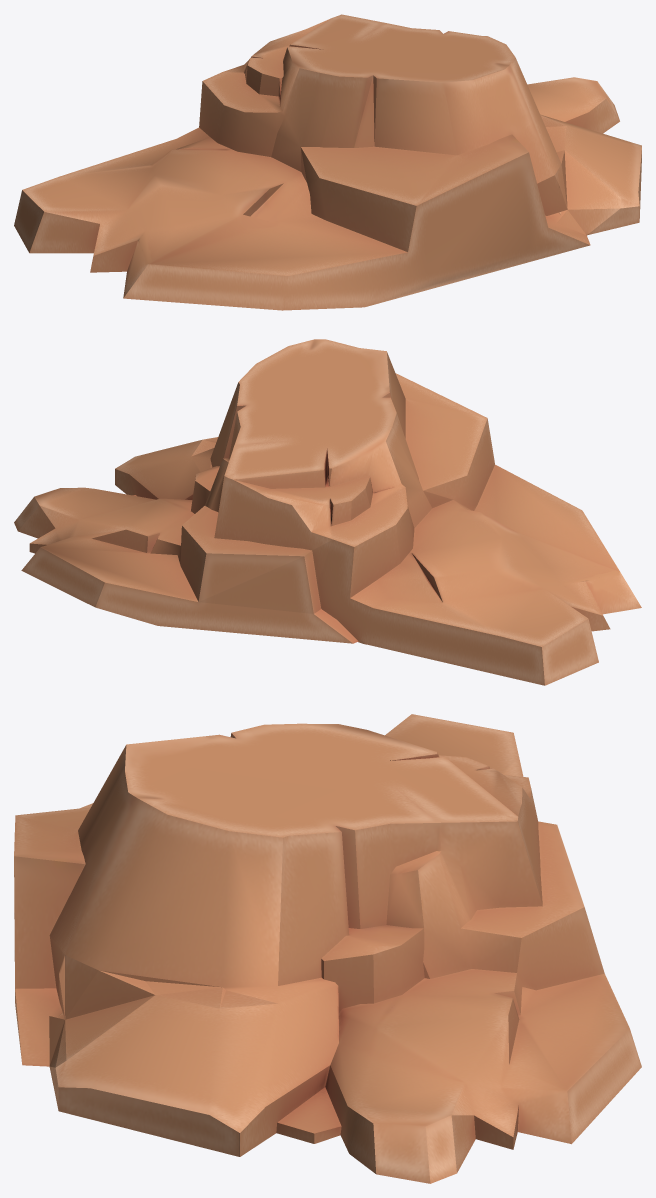
Rendered from rock_7.glb.
The picture shows the model from 3 angles, top to bottom: view 1: azimuth 30°, elevation 25°; view 2: azimuth 150°, elevation 25°; view 3: azimuth 270°, elevation 25°; orthographic projection. The views are drawn at different scales.
Visible parts, largest first — view 1: Rock_7; view 2: Rock_7; view 3: Rock_7.
Boxes of the visible parts, left/top/right/bottom form: Rock_7: left=14, top=14, right=641, bottom=310; Rock_7: left=14, top=339, right=641, bottom=685; Rock_7: left=14, top=714, right=641, bottom=1183.
Bounding box in the file's own units: 10.91 × 2.99 × 6.86.
Materials: 1 (1 with a texture image).
